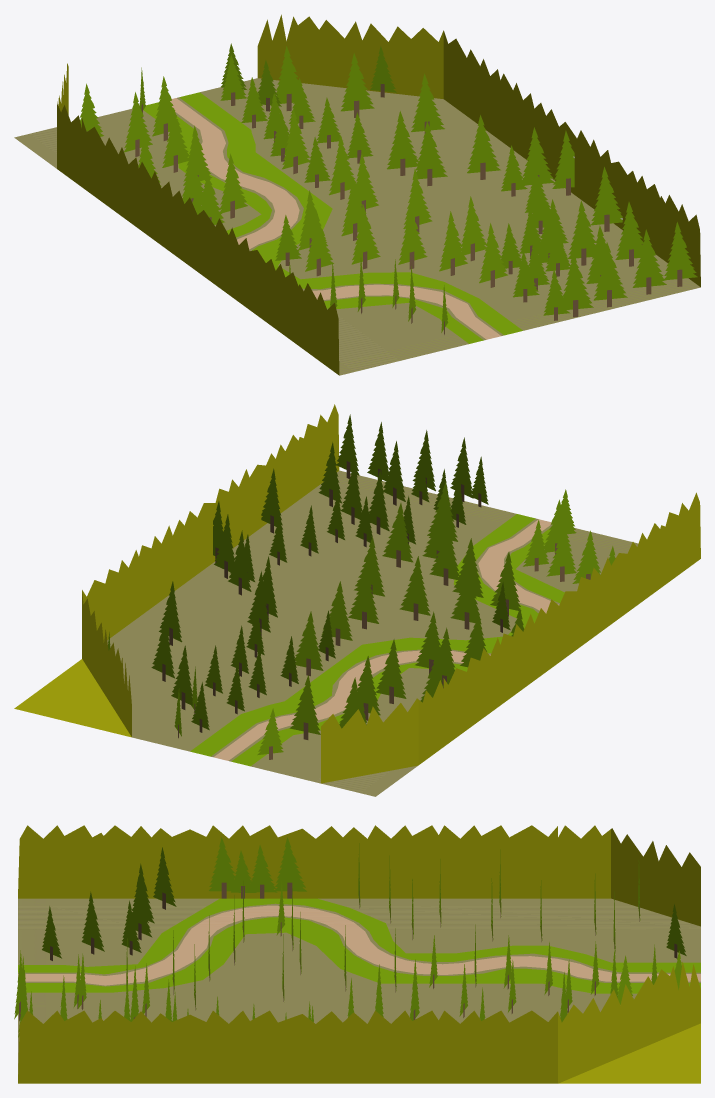
The model's file is forest02.glb.
3 renders of one model, top to bottom at view 1: azimuth 30°, elevation 25°; view 2: azimuth 150°, elevation 25°; view 3: azimuth 270°, elevation 25°, orthographic. The views are drawn at different scales.
Parts seen in each view (by area): view 1: Geom3D (×5); view 2: Geom3D (×5); view 3: Geom3D (×5).
Part boxes in pixels (x1,y1,x2,y2): Geom3D (×5): [14, 14, 700, 375]; Geom3D (×5): [14, 404, 700, 796]; Geom3D (×5): [14, 825, 700, 1083].
Size of the model in its own units: 1918707 by 363975 by 3003595.
8 materials, 4 textured.
